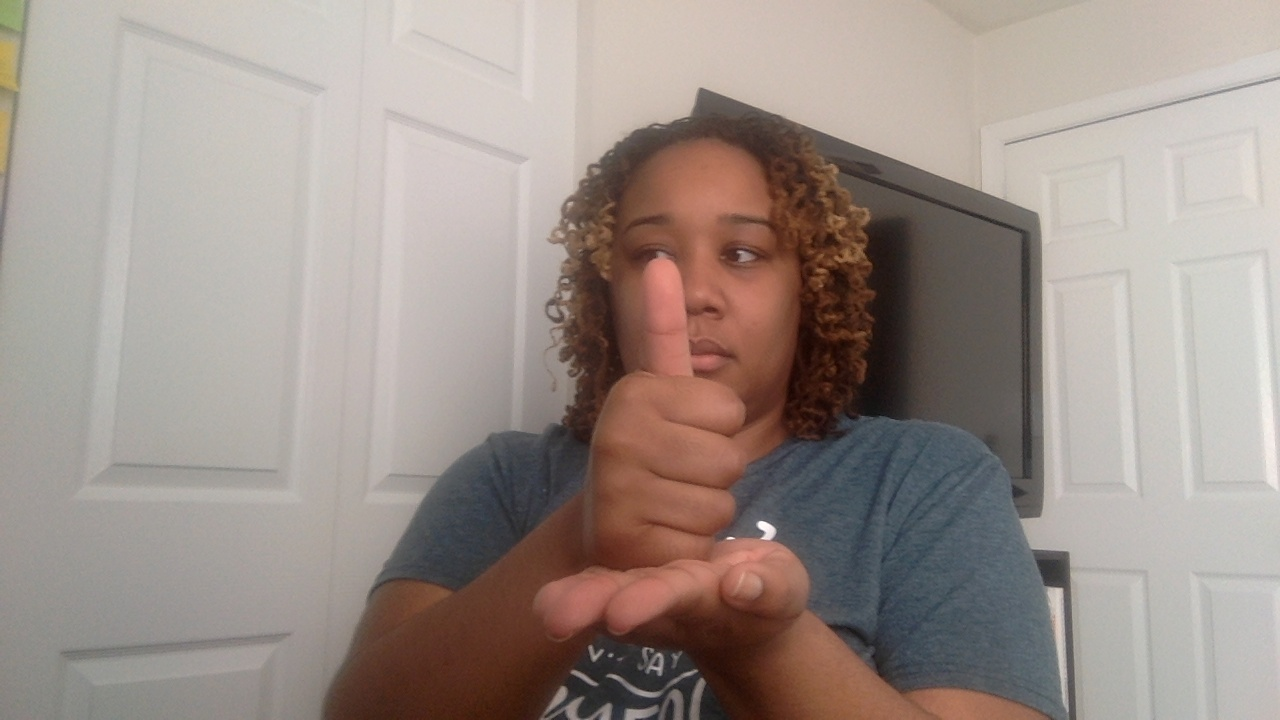help: (506, 260, 820, 687)
